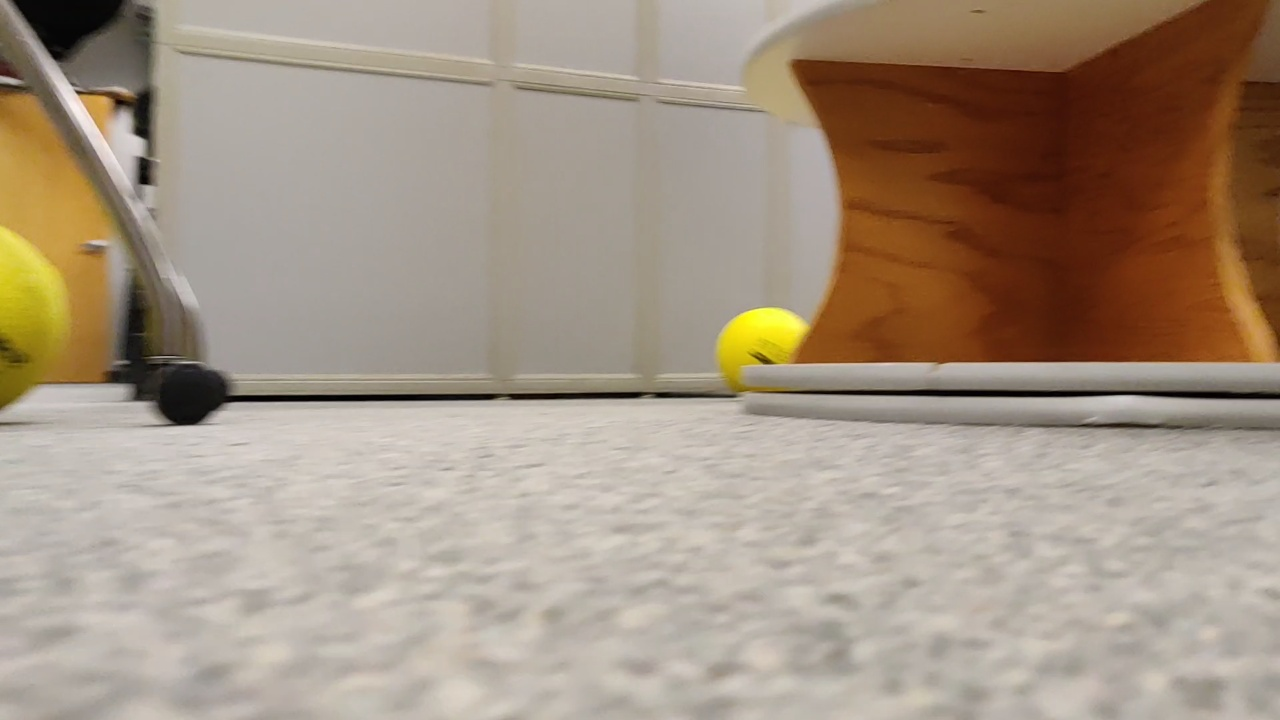Ball: (1, 226, 81, 385), (718, 304, 801, 386)
